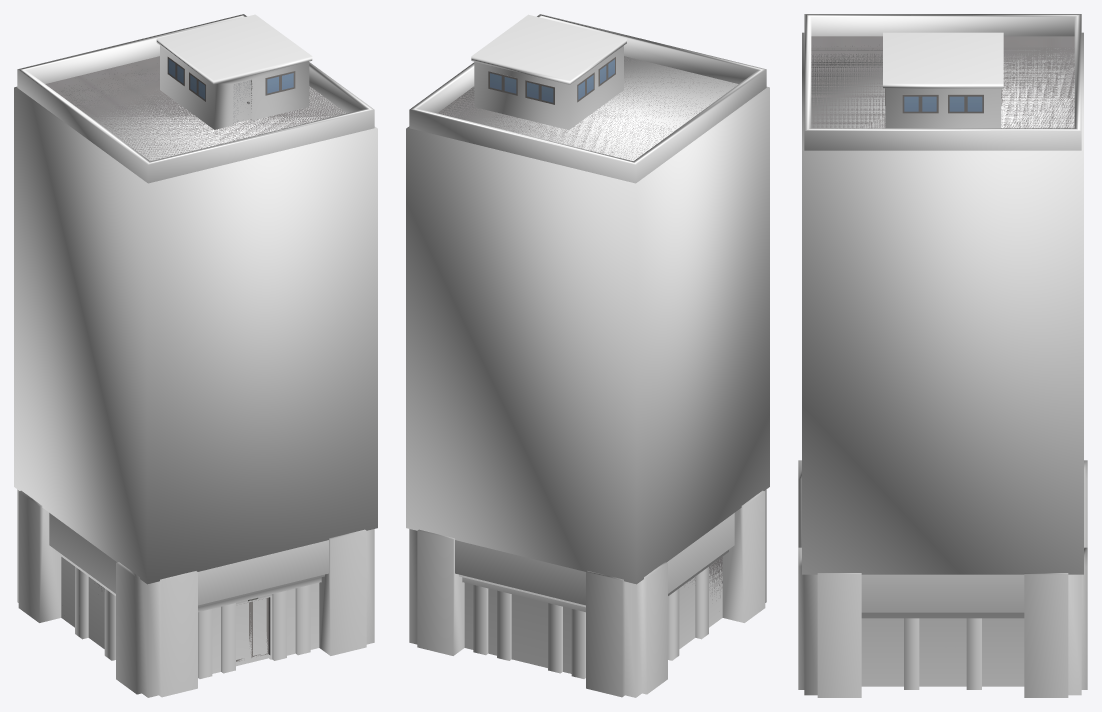
File: objects_un_c03building01.gltf
3 renders of one model, left to right at view 1: azimuth 30°, elevation 25°; view 2: azimuth 150°, elevation 25°; view 3: azimuth 270°, elevation 25°, orthographic. The views are drawn at different scales.
Parts seen in each view (by area): view 1: um_objects_un_c03building01_model_lod0Shape:objects_un_c03bu (×3), nomerge_glass01_shape:objects_un_c03building01_glass01; view 2: um_objects_un_c03building01_model_lod0Shape:objects_un_c03bu (×3), nomerge_glass01_shape:objects_un_c03building01_glass01; view 3: um_objects_un_c03building01_model_lod0Shape:objects_un_c03bu (×3), nomerge_glass01_shape:objects_un_c03building01_glass01.
Part boxes in pixels (x1,y1,x2,y2): um_objects_un_c03building01_model_lod0Shape:objects_un_c03bu (×3): (14, 14, 377, 697); nomerge_glass01_shape:objects_un_c03building01_glass01: (168, 59, 293, 99); um_objects_un_c03building01_model_lod0Shape:objects_un_c03bu (×3): (406, 14, 769, 697); nomerge_glass01_shape:objects_un_c03building01_glass01: (490, 59, 614, 102); um_objects_un_c03building01_model_lod0Shape:objects_un_c03bu (×3): (798, 14, 1087, 697); nomerge_glass01_shape:objects_un_c03building01_glass01: (904, 96, 982, 111).
Size of what is drawn, in the model's own units: 12.04 by 27.51 by 12.04.
7 materials, 6 textured.
